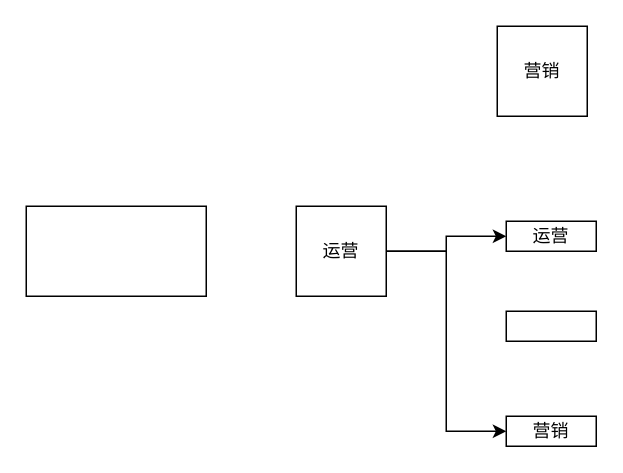
The diagram is 623 pixels wide and 473 high, and some of its shapes have lost their labels. The centre of each missing label's shape, as x and y in pixels:
"厂家" belongs at (115,250).
"打包" belongs at (550,325).
